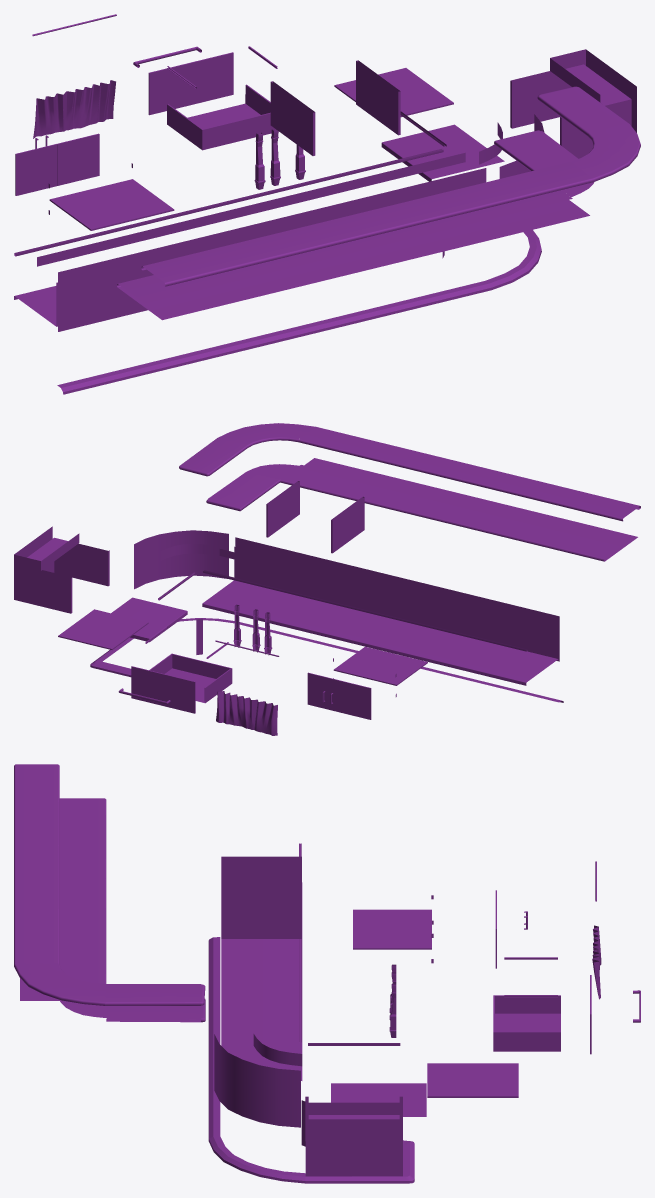
File: Bar_LP.fbx
3 renders of one model, top to bottom at view 1: azimuth 30°, elevation 25°; view 2: azimuth 150°, elevation 25°; view 3: azimuth 270°, elevation 25°, orthographic. The views are drawn at different scales.
Visible parts, largest first — view 1: bar_modul_LP, bar_modul_workspace_LP, bar_modul_top_LP, bar_endpice_LP, flette_modul_LP, drawer_LP, board1_LP, drawer_front_LP, curtain_LP, bar_endpice_botom_LP, bar_corner_top_LP, bar_endpice_top_LP (+9 smaller); view 2: bar_modul_LP, bar_modul_workspace_LP, bar_modul_top_LP, bar_endpice_LP, bar_corner_LP, board1_LP, board2_LP, drawer_front_LP, bar_endpice_workespace_LP, drawer_LP, curtain_LP, bar_endpice_botom_LP (+9 smaller); view 3: bar_modul_LP, bar_modul_top_LP, bar_modul_workspace_LP, bar_endpice_LP, bar_corner_LP, drawer_LP, board_bar_LP, board_bar_LP2, board1_LP, board2_LP, bar_corner_top_LP, flette_modul_LP (+5 smaller).
Part boxes in pixels (left/top/right/bottom): bar_modul_LP: left=14, top=152, right=486, bottom=331; bar_modul_workspace_LP: left=117, top=190, right=589, bottom=320; bar_modul_top_LP: left=141, top=161, right=593, bottom=286; bar_endpice_LP: left=510, top=49, right=636, bottom=158; flette_modul_LP: left=57, top=280, right=491, bottom=394; drawer_LP: left=167, top=84, right=278, bottom=150; board1_LP: left=49, top=179, right=174, bottom=230; drawer_front_LP: left=148, top=52, right=233, bottom=115; curtain_LP: left=33, top=80, right=115, bottom=138; bar_endpice_botom_LP: left=381, top=124, right=504, bottom=181; bar_corner_top_LP: left=571, top=123, right=640, bottom=181; bar_endpice_top_LP: left=537, top=86, right=628, bottom=135; bar_modul_LP: left=202, top=537, right=559, bottom=685; bar_modul_workspace_LP: left=280, top=458, right=637, bottom=561; bar_modul_top_LP: left=298, top=427, right=640, bottom=521; bar_endpice_LP: left=14, top=526, right=109, bottom=613; bar_corner_LP: left=134, top=530, right=228, bottom=589; board1_LP: left=333, top=646, right=427, bottom=685; board2_LP: left=58, top=609, right=148, bottom=649; drawer_front_LP: left=131, top=666, right=195, bottom=713; bar_endpice_workespace_LP: left=206, top=464, right=299, bottom=511; drawer_LP: left=149, top=653, right=232, bottom=703; curtain_LP: left=216, top=691, right=277, bottom=735; bar_endpice_botom_LP: left=111, top=597, right=187, bottom=642; bar_modul_LP: left=221, top=882, right=302, bottom=1080; bar_modul_top_LP: left=14, top=764, right=59, bottom=964; bar_modul_workspace_LP: left=20, top=798, right=106, bottom=1000; bar_endpice_LP: left=305, top=1096, right=402, bottom=1176; bar_corner_LP: left=214, top=1034, right=302, bottom=1127; drawer_LP: left=493, top=995, right=560, bottom=1051; board_bar_LP: left=221, top=896, right=301, bottom=938; board_bar_LP2: left=221, top=856, right=301, bottom=896; board1_LP: left=353, top=909, right=431, bottom=949; board2_LP: left=427, top=1063, right=518, bottom=1097; bar_corner_top_LP: left=14, top=963, right=106, bottom=1005; flette_modul_LP: left=208, top=937, right=220, bottom=1139.
Bounding box in the file's own units: 1316 × 441 × 1201.
